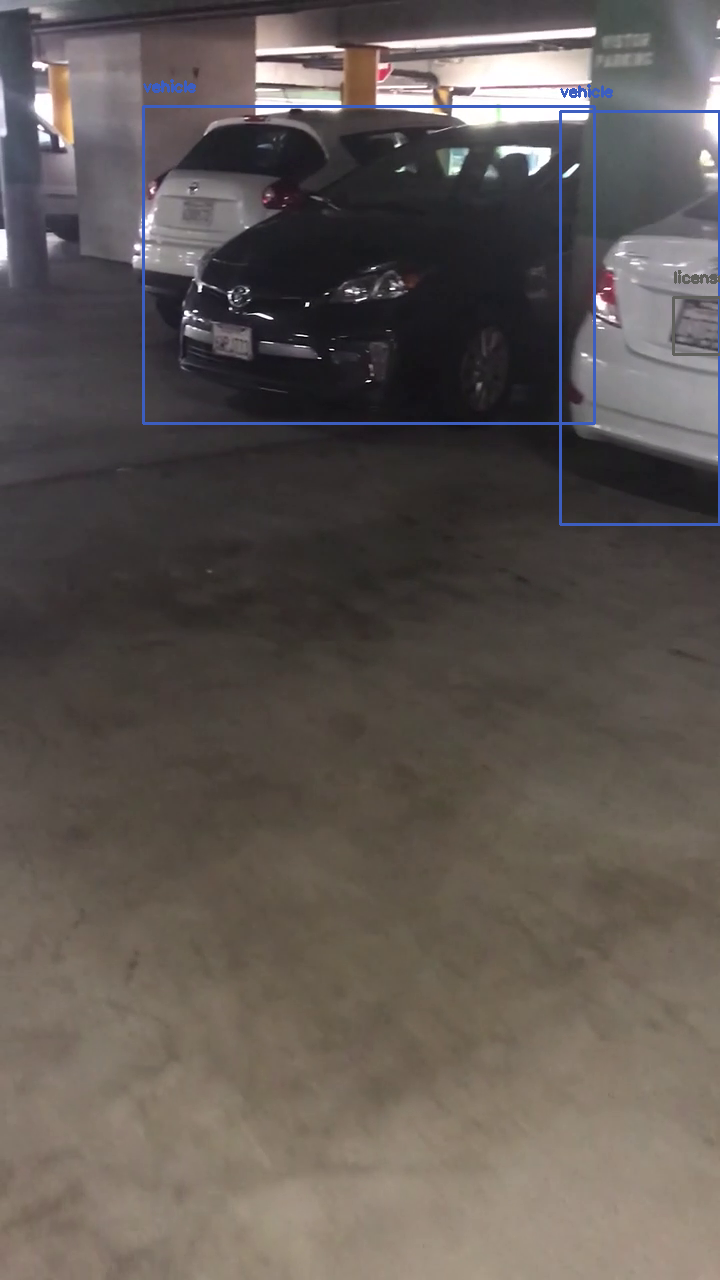license_plate: (673, 297, 720, 354)
vehicle: (143, 106, 594, 423), (560, 111, 719, 524)
